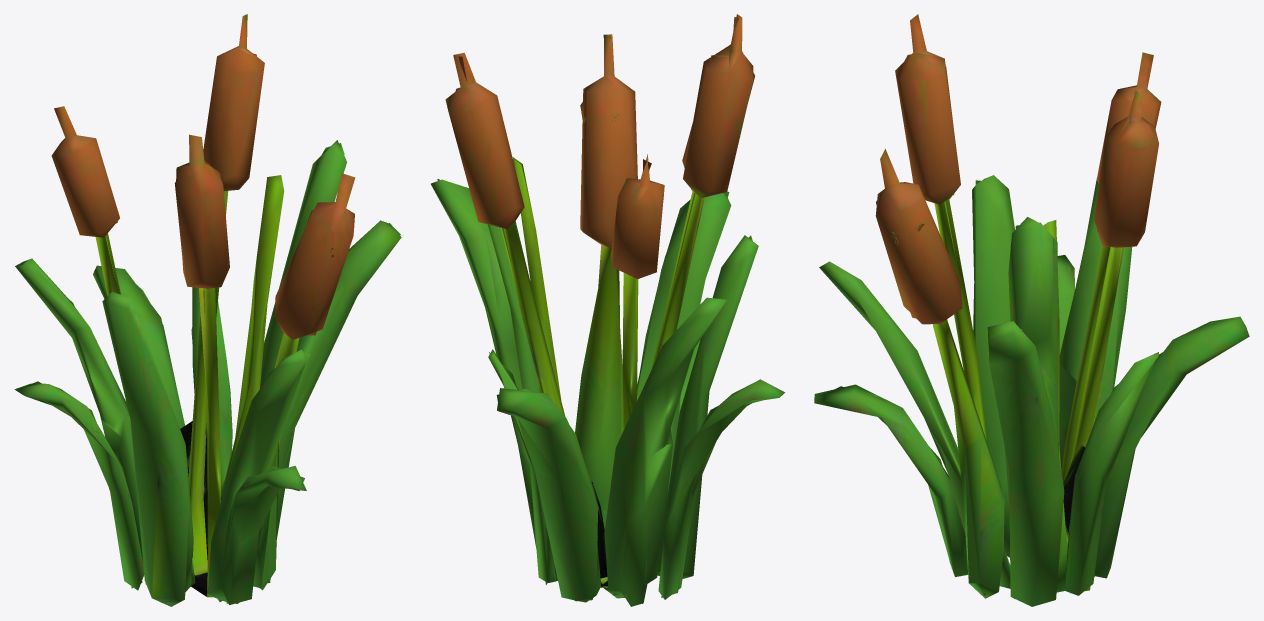
Rendered from x-plant-tall-reeds.glb.
The picture shows the model from 3 angles, left to right: view 1: azimuth 30°, elevation 25°; view 2: azimuth 150°, elevation 25°; view 3: azimuth 270°, elevation 25°; orthographic projection. The views are drawn at different scales.
Visible parts, largest first — view 1: geometry_0; view 2: geometry_0; view 3: geometry_0.
Part boxes in pixels (x1,y1,x2,y2): geometry_0: [14, 14, 401, 606]; geometry_0: [431, 14, 785, 606]; geometry_0: [814, 14, 1249, 606].
Bounding box in the file's own units: 0.7241 × 1 × 0.737.
Materials: 1 (1 with a texture image).
